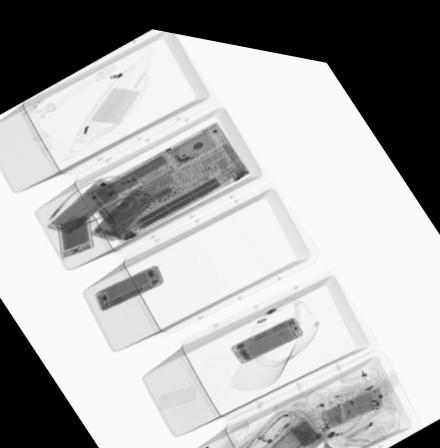Powerbank: (53, 206, 95, 259)
